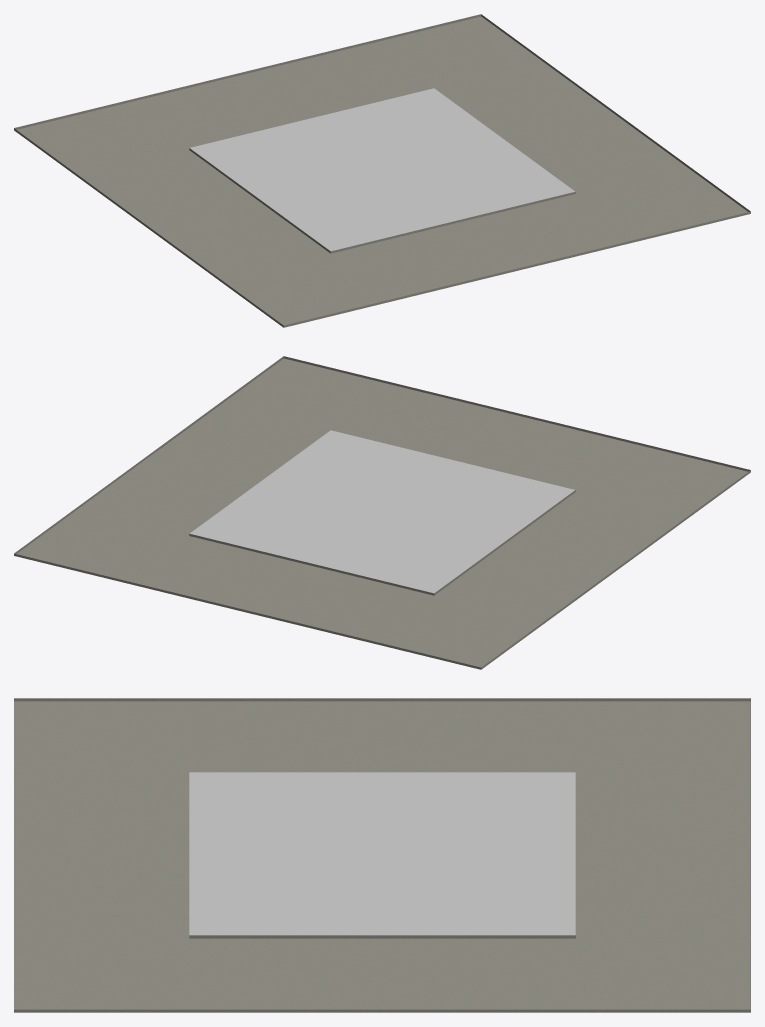
File: GroundPlate.fbx
3 renders of one model, top to bottom at view 1: azimuth 30°, elevation 25°; view 2: azimuth 150°, elevation 25°; view 3: azimuth 270°, elevation 25°, orthographic. The views are drawn at different scales.
Parts seen in each view (by area): view 1: BuildingArea, Courtyard; view 2: BuildingArea, Courtyard; view 3: BuildingArea, Courtyard.
Boxes of the visible parts, left/top/right/bottom form: BuildingArea: left=14, top=14, right=750, bottom=327; Courtyard: left=190, top=88, right=574, bottom=251; BuildingArea: left=14, top=356, right=750, bottom=669; Courtyard: left=190, top=430, right=574, bottom=593; BuildingArea: left=14, top=698, right=750, bottom=1012; Courtyard: left=189, top=772, right=575, bottom=935.
Bounding box in the file's own units: 10500 × 50 × 10500.
